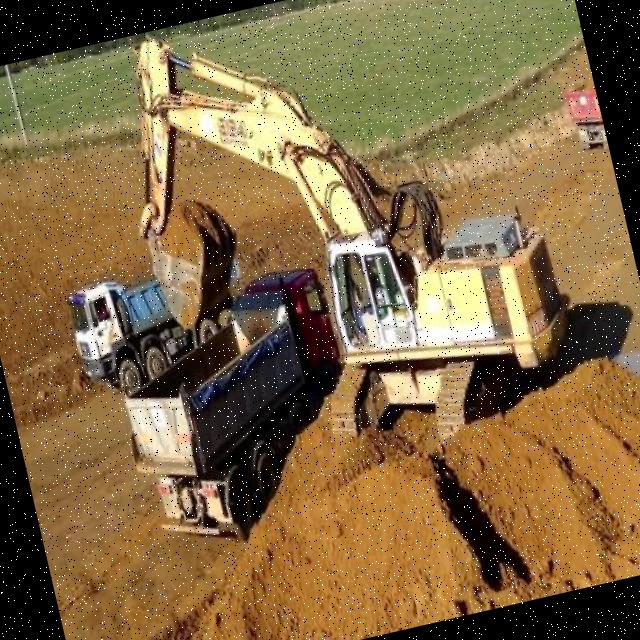Dump Truck: (96, 254, 376, 560), (61, 250, 263, 408), (558, 64, 609, 156)
Excavator: (95, 0, 592, 502)
